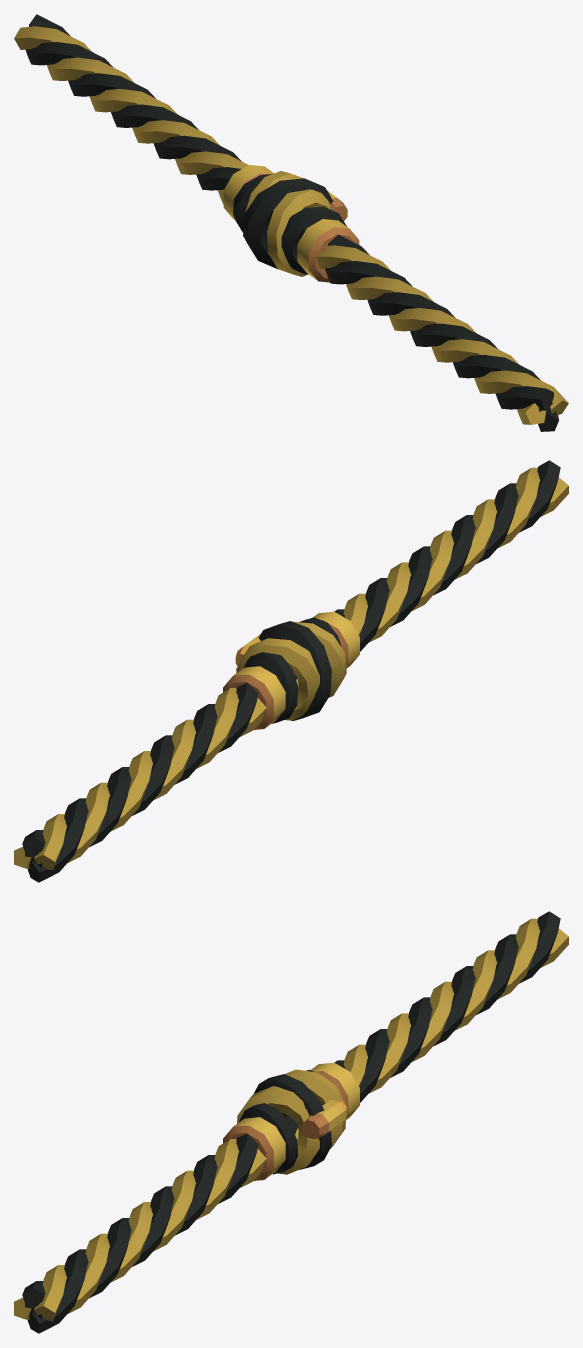
Rendered from grapple_mut_det_cord_line.glb.
3 renders of one model, top to bottom at view 1: azimuth 30°, elevation 25°; view 2: azimuth 150°, elevation 25°; view 3: azimuth 330°, elevation 25°, orthographic.
Parts seen in each view (by area): view 1: Line; view 2: Line; view 3: Line.
Part boxes in pixels (x1,y1,x2,y2): Line: [14, 14, 568, 431]; Line: [14, 460, 568, 882]; Line: [14, 911, 568, 1333].
Size of the model in its own units: 0.0969 by 0.0946 by 1.01.
